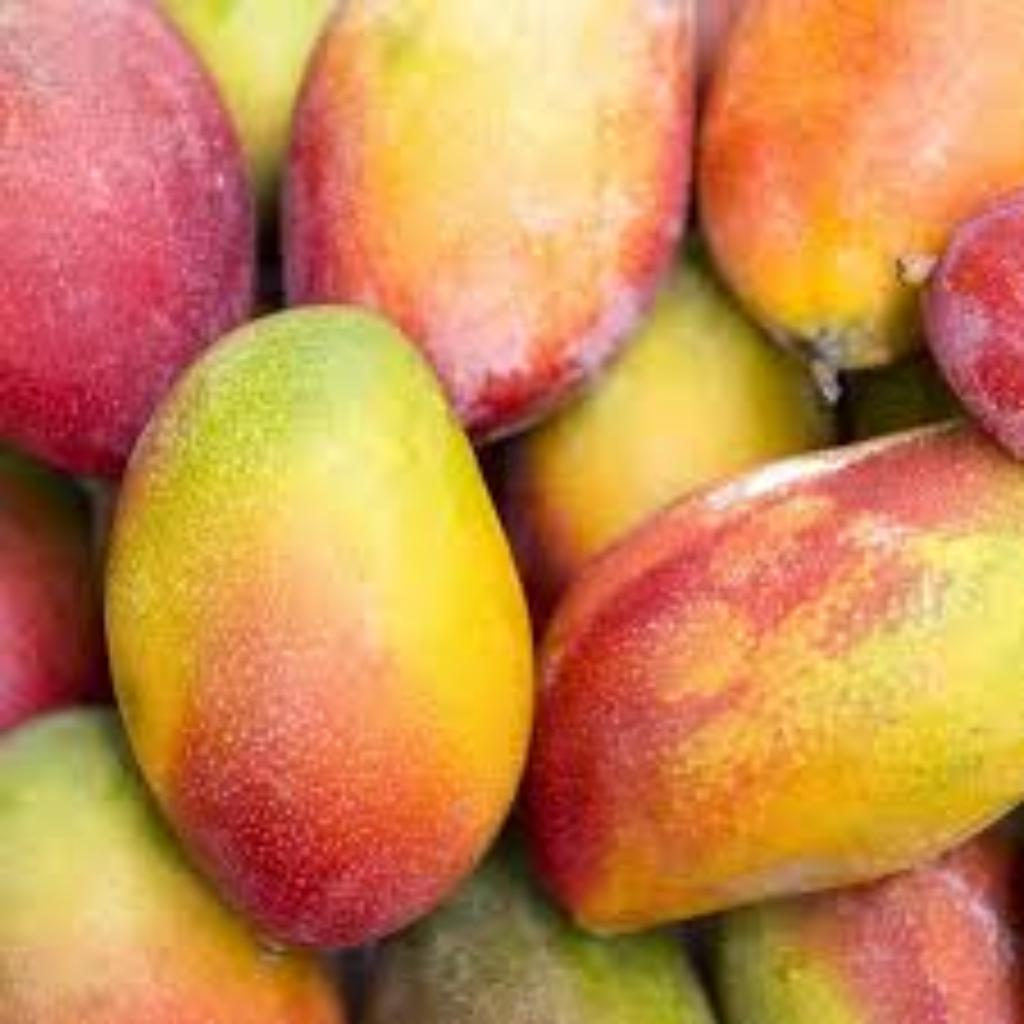mango: (100, 305, 537, 956), (527, 415, 1024, 943), (280, 0, 694, 445), (693, 0, 1024, 379), (0, 1, 258, 473), (0, 708, 367, 1024)
